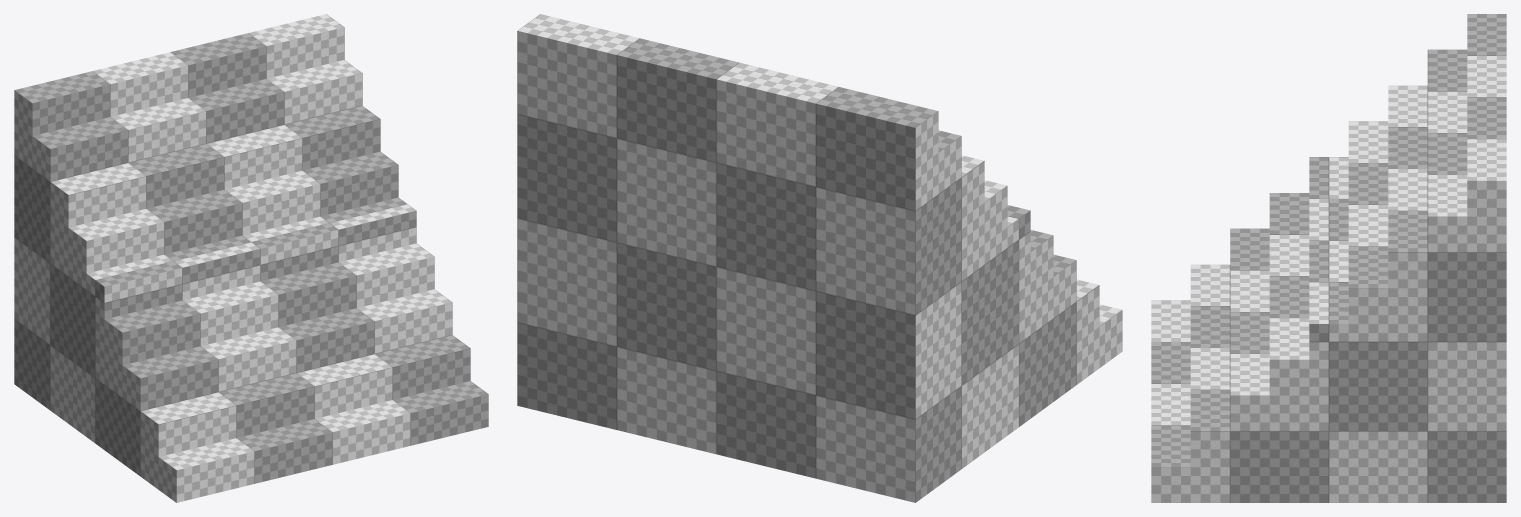
The model's file is stair.gltf.
3 renders of one model, left to right at view 1: azimuth 30°, elevation 25°; view 2: azimuth 150°, elevation 25°; view 3: azimuth 270°, elevation 25°, orthographic. The views are drawn at different scales.
Parts seen in each view (by area): view 1: 123; view 2: 123; view 3: 123.
Boxes of the visible parts, bbox=[...] form: 123: bbox=[14, 14, 488, 502]; 123: bbox=[517, 14, 1122, 502]; 123: bbox=[1151, 14, 1506, 502].
Bounding box in the file's own units: 2 × 1.8 × 1.8.
1 material, 1 textured.
